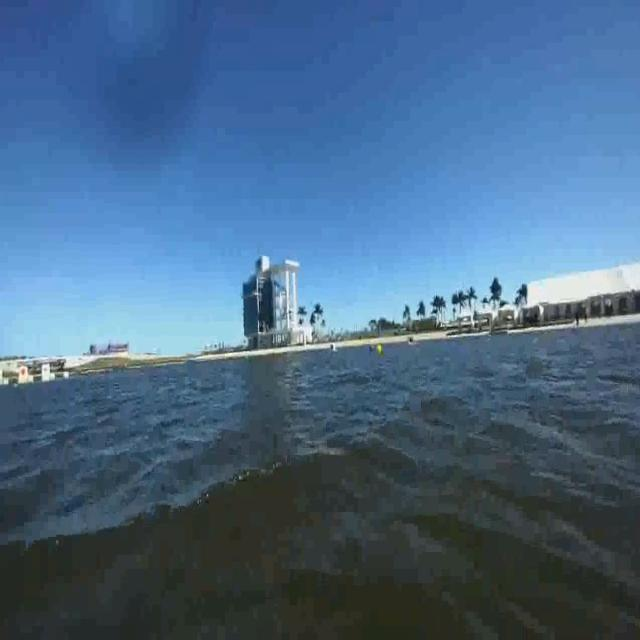yellow-buoy: (377, 344, 385, 356)
